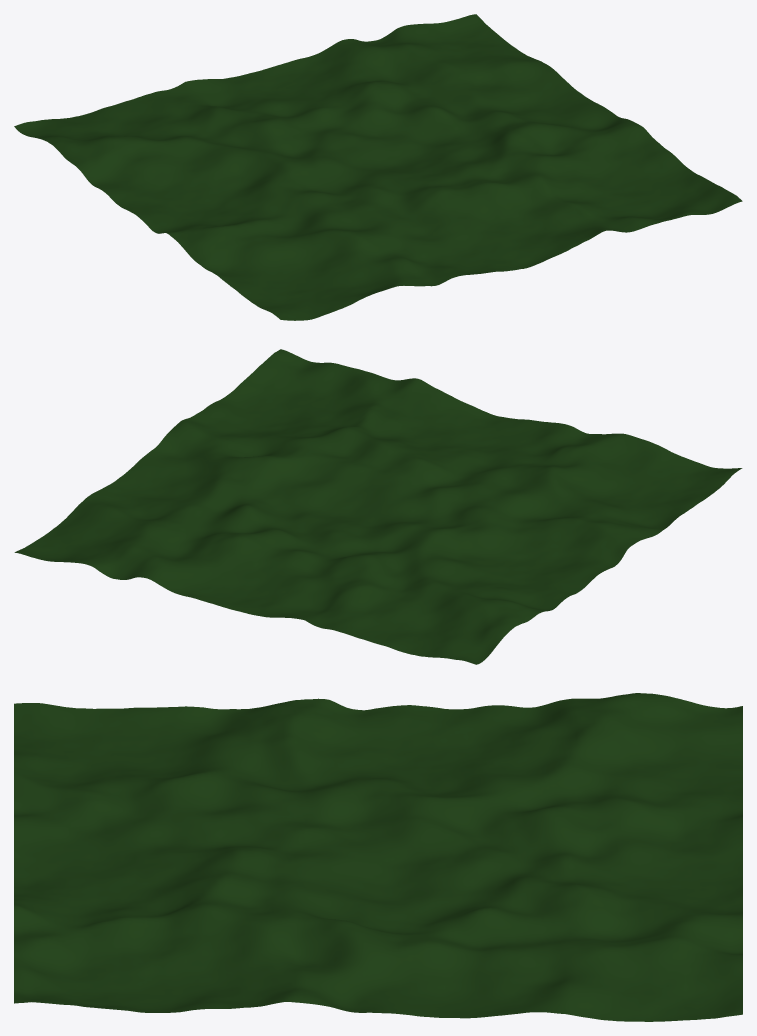
File: Hills.fbx
3 views of the same model, one above another, from view 1: azimuth 30°, elevation 25°; view 2: azimuth 150°, elevation 25°; view 3: azimuth 270°, elevation 25° (orthographic). The views are drawn at different scales.
Visible parts, largest first — view 1: Plane; view 2: Plane; view 3: Plane.
Boxes of the visible parts, <box> form: Plane: <box>14,14,742,320</box>; Plane: <box>14,349,742,664</box>; Plane: <box>14,693,742,1021</box>.
Size of the model in its own units: 63000 by 2720 by 63000.
